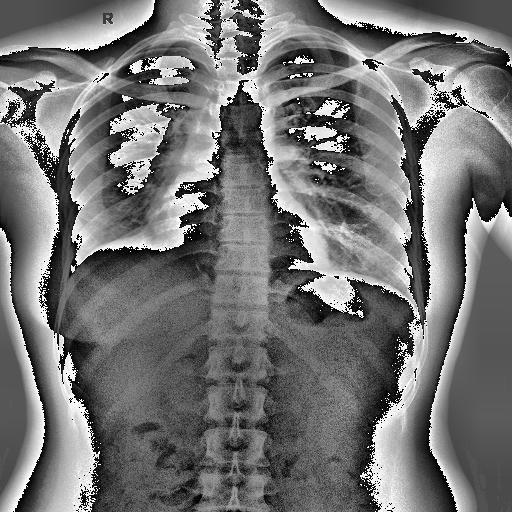11- Pleural thickening: (138, 38, 180, 52), (306, 34, 334, 42)
13- Pulmonary fibrosis: (132, 116, 188, 236), (122, 189, 168, 235), (153, 137, 186, 186), (136, 208, 160, 240)
3- Cardiomegaly: (146, 208, 330, 272)
